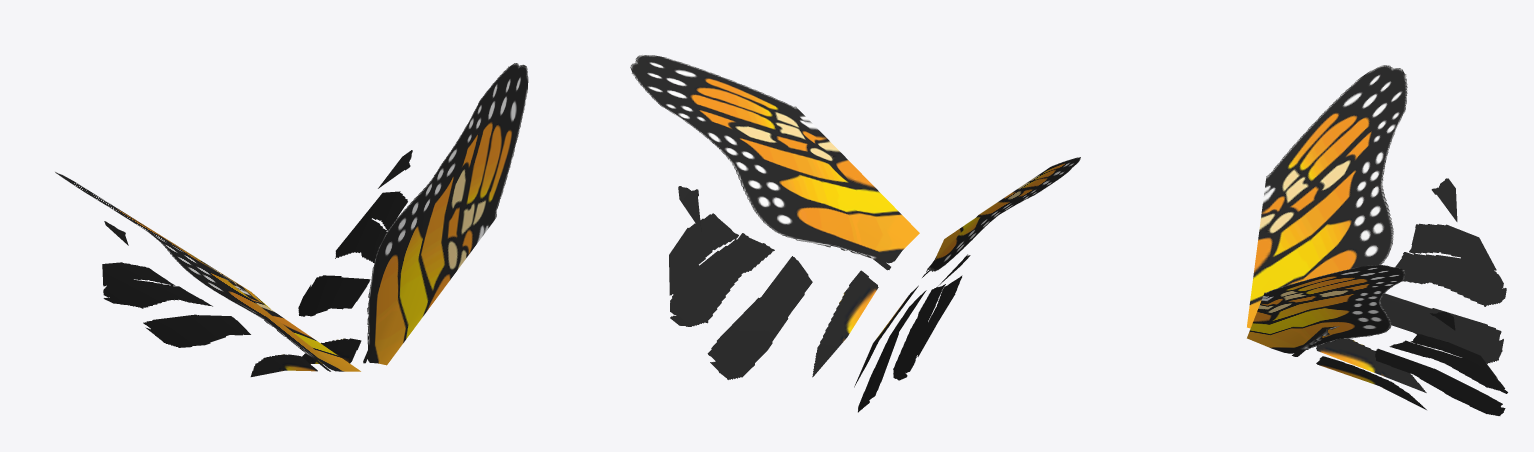
The model's file is Butterfly_Static.fbx.
The picture shows the model from 3 angles, left to right: view 1: azimuth 30°, elevation 25°; view 2: azimuth 150°, elevation 25°; view 3: azimuth 270°, elevation 25°; orthographic projection. The views are drawn at different scales.
Visible parts, largest first — view 1: Butterfly_Static; view 2: Butterfly_Static; view 3: Butterfly_Static.
Boxes of the visible parts, x1,y1,x2,y2 form: Butterfly_Static: (55, 63, 528, 376); Butterfly_Static: (630, 54, 1080, 412); Butterfly_Static: (1247, 65, 1507, 415).
Size of the model in its own units: 0.12 by 0.0705 by 0.0815.
1 material, 1 textured.
